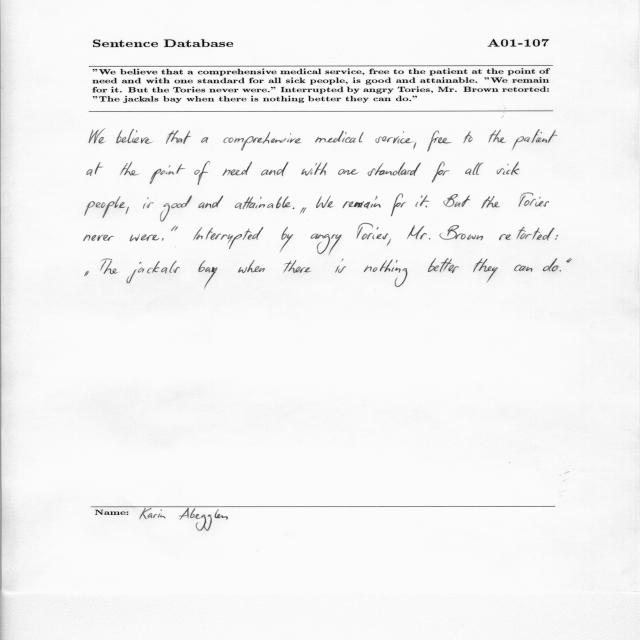word: (196, 227, 264, 249), (224, 132, 302, 151), (127, 261, 180, 284), (364, 259, 407, 287), (512, 130, 557, 151), (85, 196, 125, 218), (160, 195, 192, 222), (499, 227, 555, 241), (368, 162, 421, 176), (235, 196, 292, 209), (150, 164, 185, 184), (311, 233, 342, 255), (440, 225, 484, 240), (473, 258, 498, 282), (315, 131, 364, 143), (198, 260, 218, 288), (116, 129, 153, 144), (357, 223, 389, 240), (427, 131, 452, 152), (376, 131, 414, 144), (428, 258, 459, 273), (343, 196, 381, 208), (223, 161, 252, 176), (519, 193, 549, 207), (194, 161, 210, 185), (261, 162, 288, 176), (432, 162, 450, 183), (302, 162, 328, 176), (283, 260, 311, 273), (238, 260, 265, 273), (166, 130, 191, 144), (391, 194, 406, 217), (407, 225, 430, 240), (199, 196, 224, 209), (280, 227, 293, 252), (497, 162, 519, 175), (100, 259, 118, 274), (120, 162, 139, 175), (89, 129, 105, 144), (162, 226, 178, 241), (488, 130, 506, 143), (316, 195, 334, 208), (481, 196, 500, 208), (87, 162, 103, 176), (465, 163, 483, 175), (130, 234, 160, 241), (543, 258, 559, 271), (443, 194, 458, 207), (455, 195, 471, 207), (416, 195, 430, 208), (84, 235, 114, 241), (335, 259, 346, 273), (143, 197, 154, 209), (338, 169, 359, 175), (514, 265, 532, 272), (463, 131, 473, 143), (194, 227, 203, 240), (201, 137, 208, 143), (300, 207, 306, 214), (387, 238, 391, 246), (566, 258, 572, 263), (126, 207, 129, 215), (414, 142, 417, 149), (85, 271, 89, 276), (555, 235, 558, 240), (293, 208, 295, 210), (560, 270, 561, 272)
